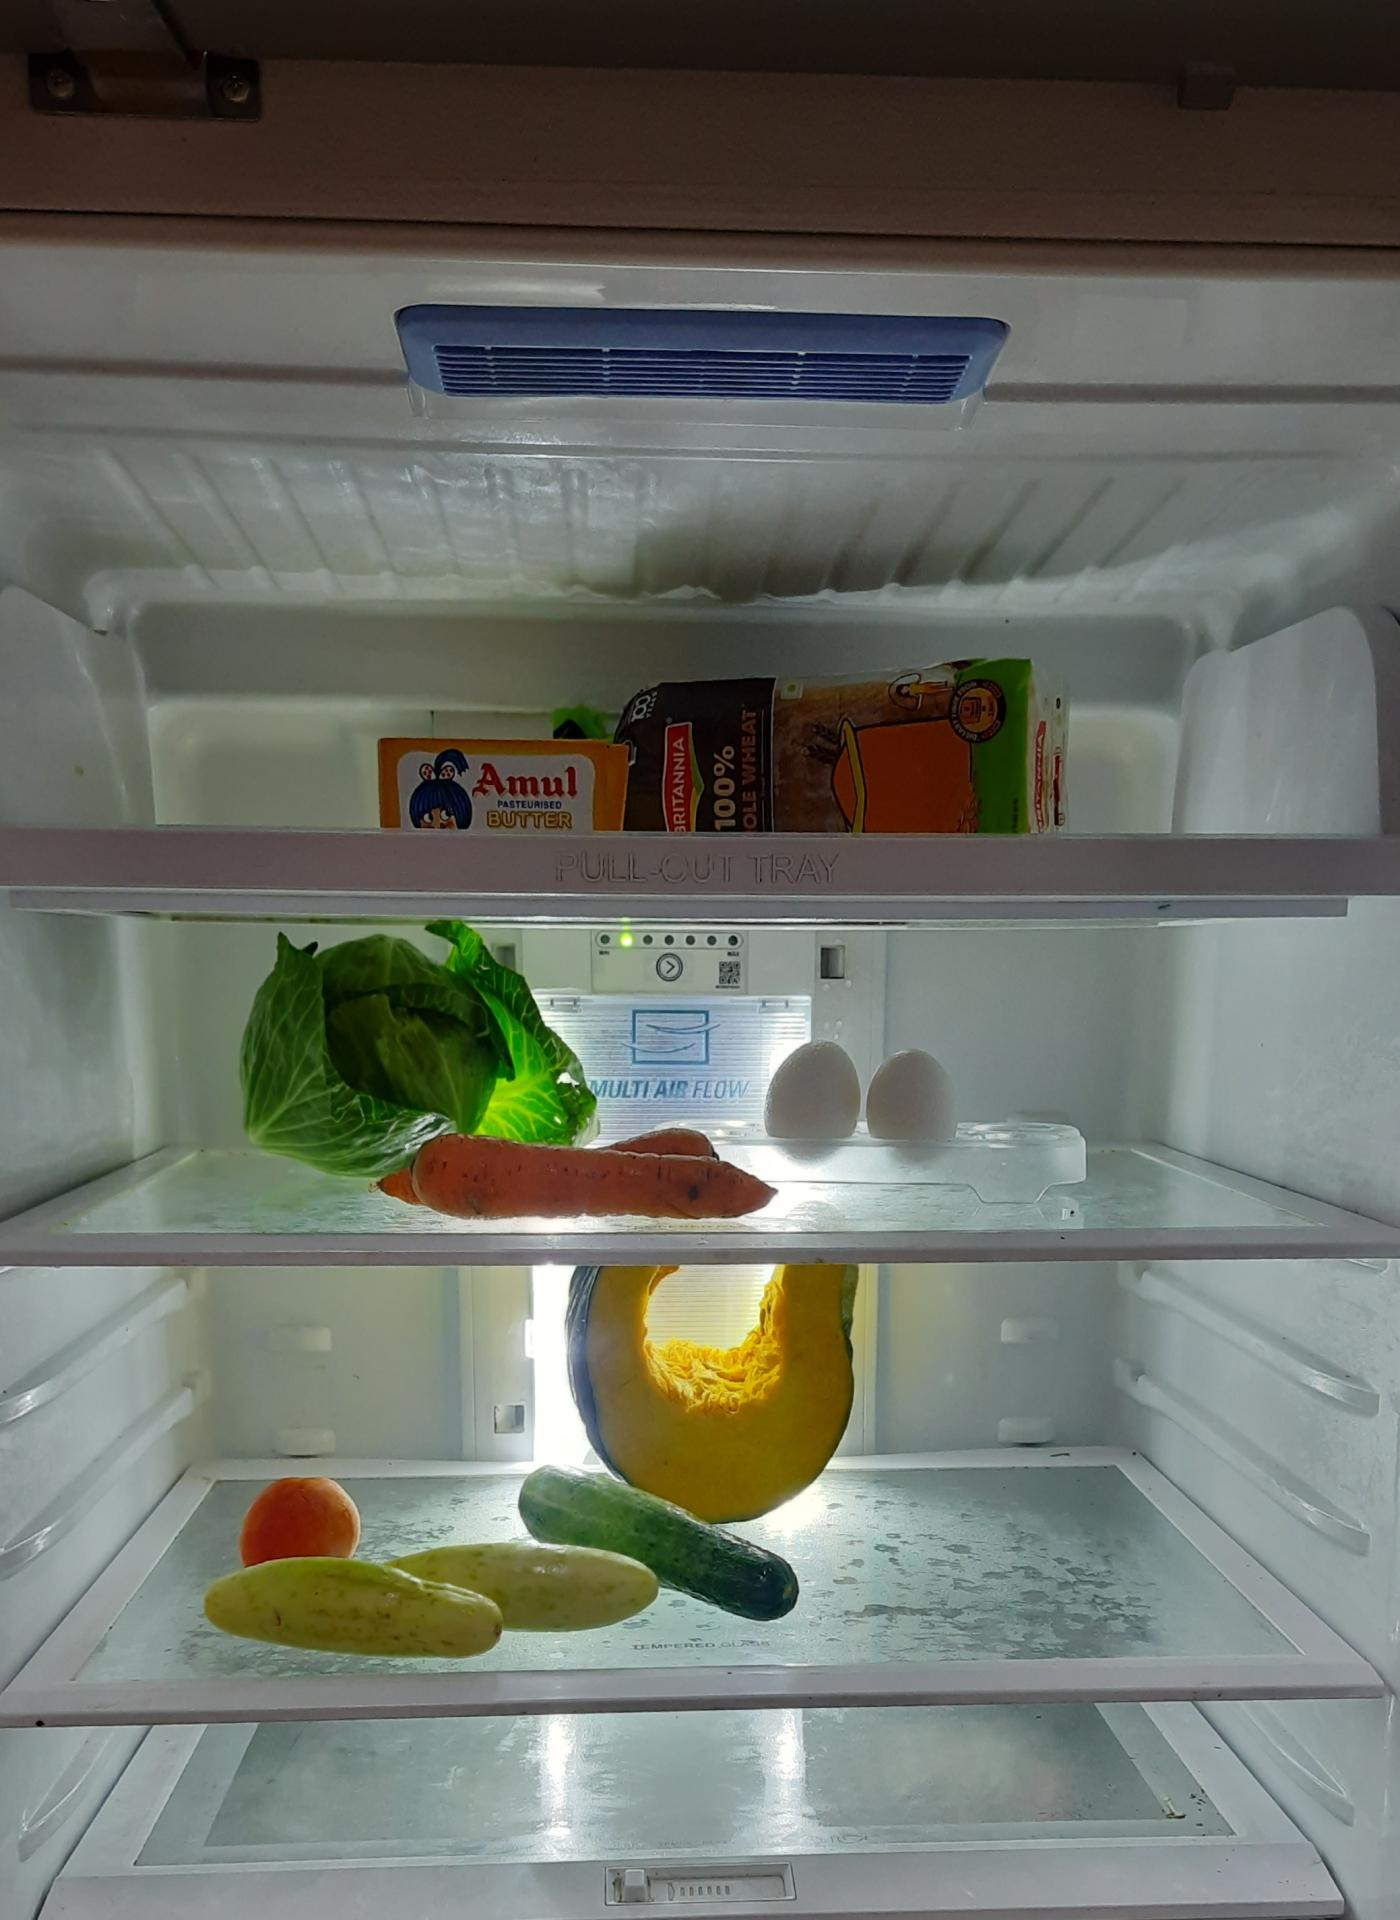bread: (590, 647, 1066, 826)
butter: (377, 738, 637, 839)
cabbage: (239, 939, 574, 1178)
carrots: (377, 1122, 772, 1210)
cucumber: (519, 1449, 807, 1631), (200, 1556, 519, 1662), (403, 1537, 669, 1637)
egg: (762, 1039, 959, 1151)
pumpkin: (567, 1257, 865, 1519)
tomato: (237, 1470, 365, 1568)
